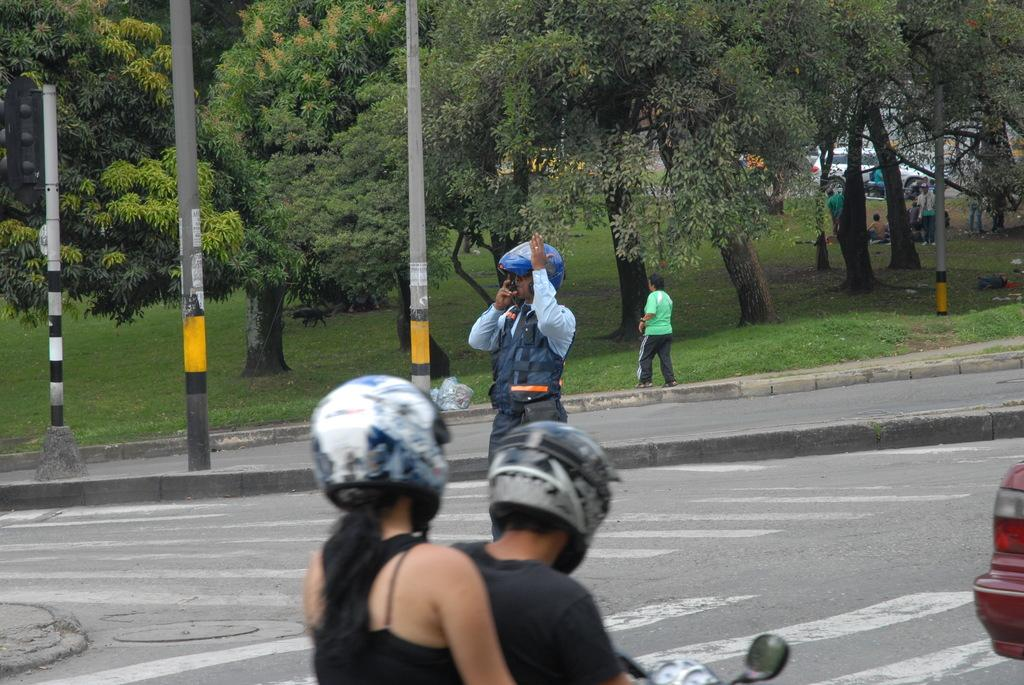helmet: (309, 374, 452, 527), (488, 421, 622, 577), (498, 240, 564, 298)
nohelmet: (647, 273, 666, 293)
